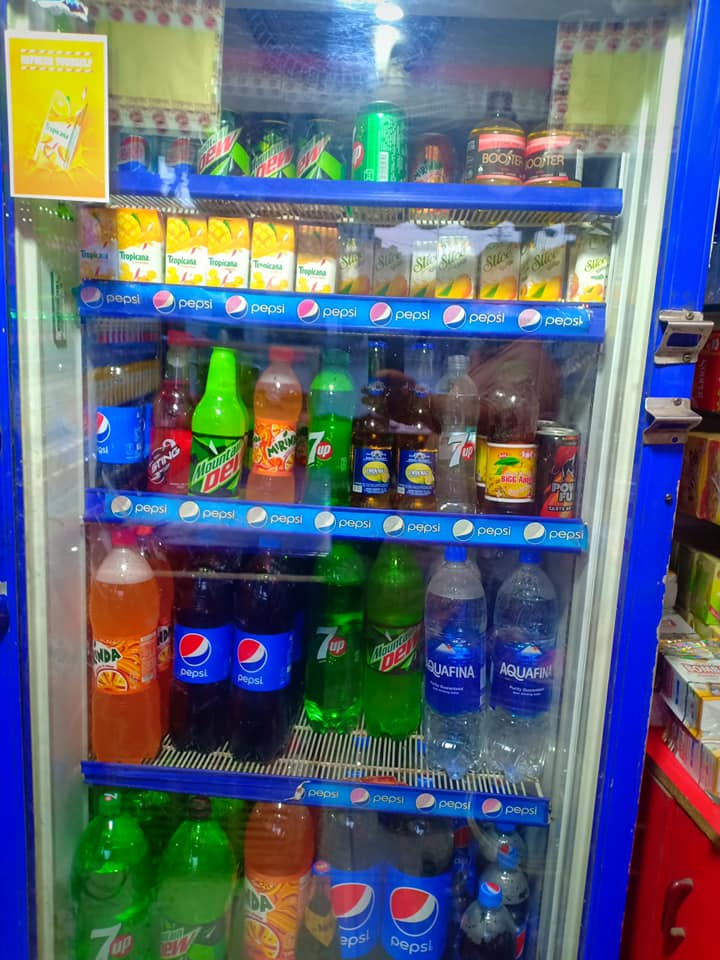7up: (89, 921, 136, 960), (315, 622, 347, 661), (446, 430, 474, 468), (306, 429, 333, 468)
aquafina: (424, 655, 477, 684), (499, 660, 555, 683)
booster: (480, 149, 523, 168)
mountaindew: (193, 438, 243, 493), (372, 627, 420, 675), (198, 130, 239, 174), (250, 140, 292, 177), (412, 160, 445, 184)
pepsi: (390, 883, 438, 937), (331, 881, 377, 932), (177, 631, 213, 668), (236, 635, 268, 675), (440, 302, 468, 331), (175, 497, 202, 525), (449, 514, 475, 543), (150, 288, 176, 316), (295, 297, 321, 325), (517, 307, 543, 335), (223, 294, 249, 321), (521, 521, 547, 547), (369, 301, 394, 328), (78, 284, 105, 309), (109, 493, 134, 520), (312, 508, 337, 535), (478, 796, 503, 822), (244, 506, 269, 531), (412, 790, 437, 815), (381, 514, 405, 539), (347, 784, 371, 809), (484, 882, 500, 894)
slice: (481, 244, 513, 273), (530, 244, 562, 271), (440, 245, 466, 269)
sting: (149, 441, 181, 478)
tropicana: (165, 252, 197, 267), (119, 249, 150, 263), (297, 263, 328, 277), (207, 256, 239, 269)
